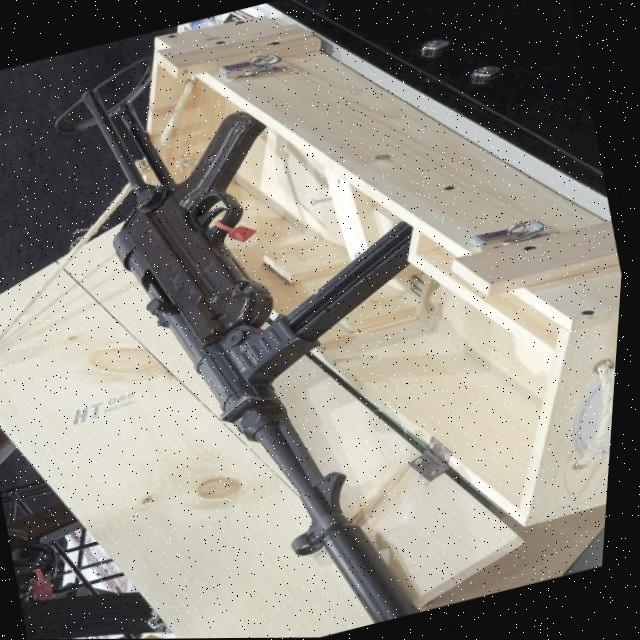firearm: (7, 0, 519, 640)
